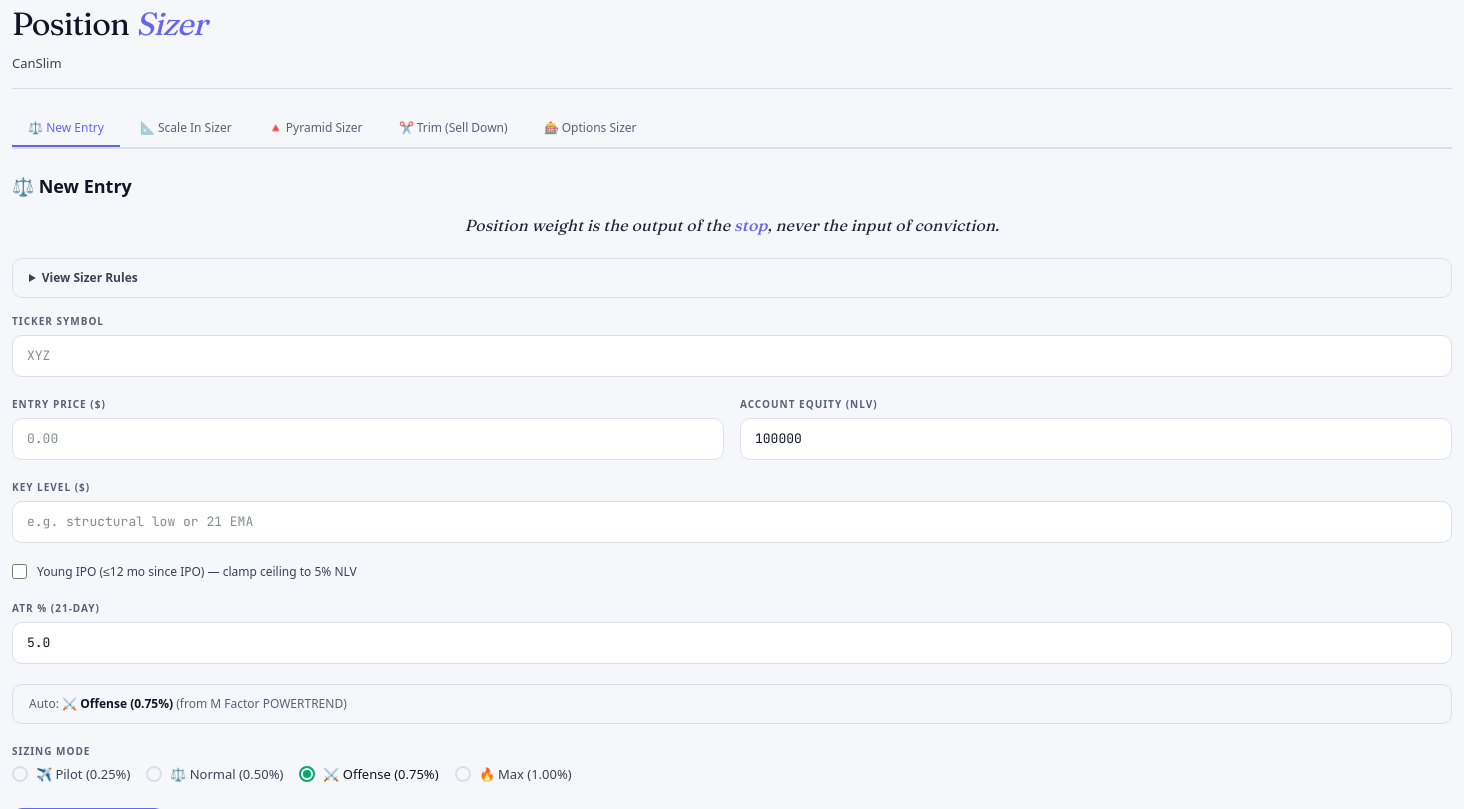
Test case: PositionSizer — MCT-driven sizing mode › manual override flips indicator to 'Manual: …' and shows a Reset button
This screenshot has width=1464, height=809.
expect the element with test id "sizer-mode-indicator" shows "Auto:": met, box x1=29 y1=694 x2=59 y2=712
Click the text "✈️ Pilot (0.25%)" at (83, 774), box x1=36 y1=764 x2=130 y2=784
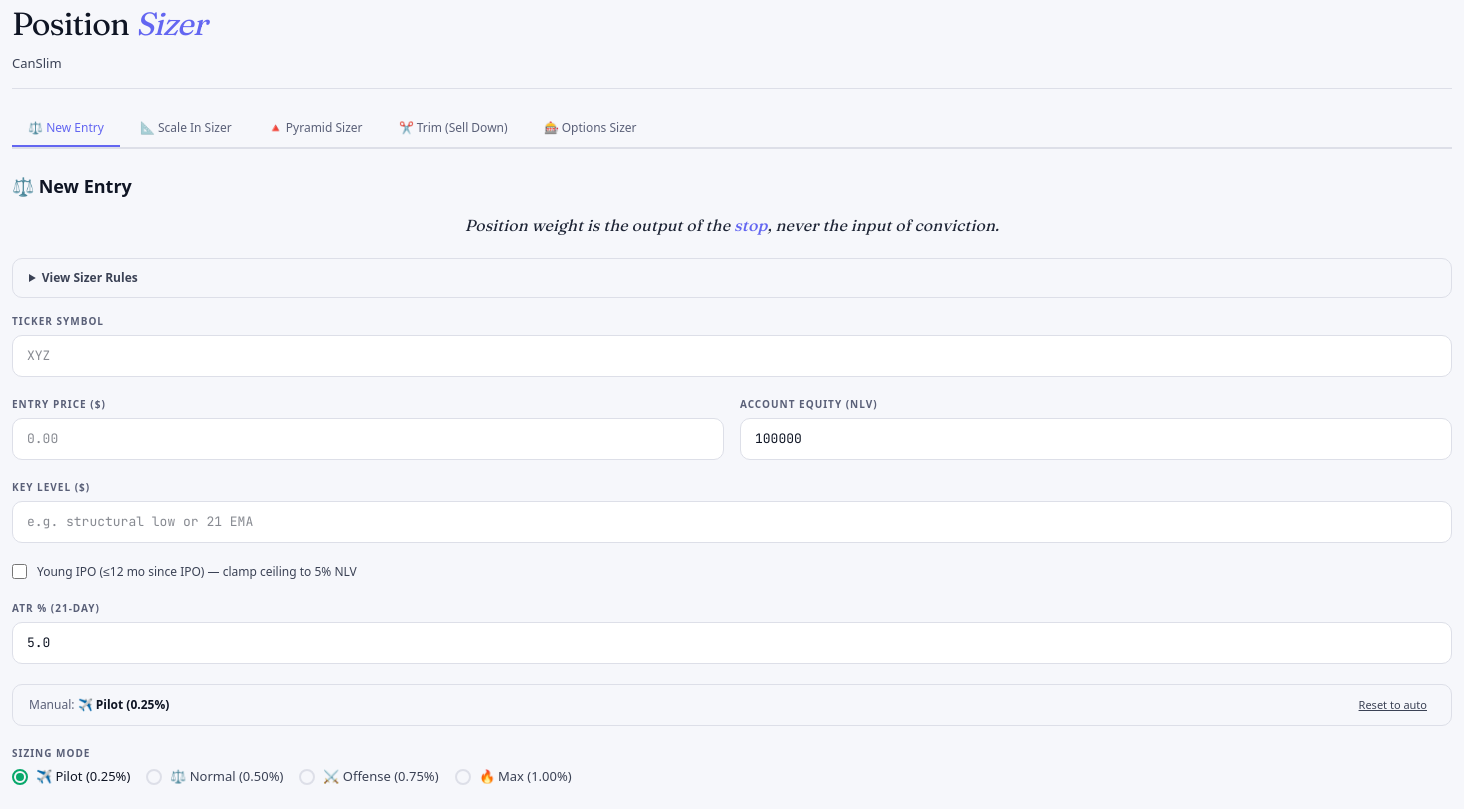
expect the element with test id "sizer-mode-indicator" shows "Manual:": met, box x1=29 y1=696 x2=74 y2=713
expect the element with test id "sizer-mode-indicator" shows "Pilot (0.25%)": met, box x1=78 y1=696 x2=169 y2=713
expect the text with test id "sizer-mode-indicator" no longer shows "from M Factor": met
